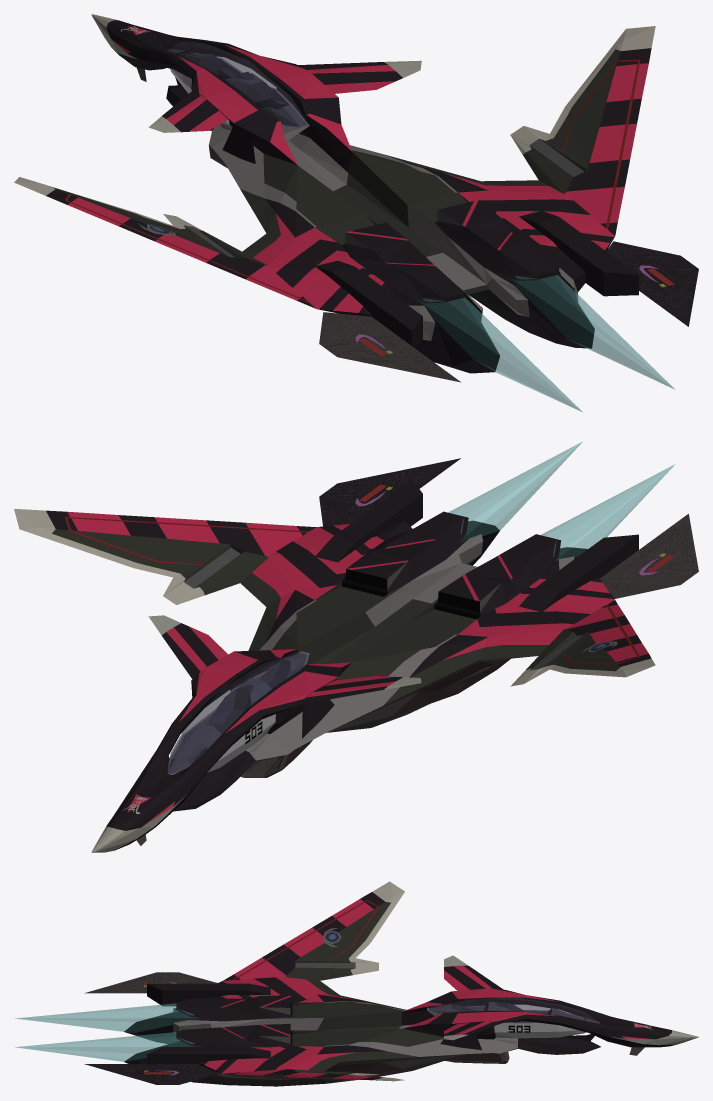
File: frx01Jam-F.obj
3 views of the same model, one above another, from view 1: azimuth 30°, elevation 25°; view 2: azimuth 150°, elevation 25°; view 3: azimuth 270°, elevation 25° (orthographic). The views are drawn at different scales.
Visible parts, largest first — view 1: ShapeIndexedFaceSet.052_ShapeIndexedFaceSet.053, ShapeIndexedFaceSet.061_ShapeIndexedFaceSet.062, ShapeIndexedFaceSet.063_ShapeIndexedFaceSet.064, ShapeIndexedFaceSet.022_ShapeIndexedFaceSet.023, ShapeIndexedFaceSet.054_ShapeIndexedFaceSet.055, ShapeIndexedFaceSet.053_ShapeIndexedFaceSet.054, ShapeIndexedFaceSet.046_ShapeIndexedFaceSet.047, ShapeIndexedFaceSet.013_ShapeIndexedFaceSet.014, ShapeIndexedFaceSet.048_ShapeIndexedFaceSet.049, ShapeIndexedFaceSet.069_ShapeIndexedFaceSet, ShapeIndexedFaceSet.017_ShapeIndexedFaceSet.018, ShapeIndexedFaceSet.043_ShapeIndexedFaceSet.044 (+17 smaller); view 2: ShapeIndexedFaceSet.052_ShapeIndexedFaceSet.053, ShapeIndexedFaceSet.061_ShapeIndexedFaceSet.062, ShapeIndexedFaceSet.063_ShapeIndexedFaceSet.064, ShapeIndexedFaceSet.054_ShapeIndexedFaceSet.055, ShapeIndexedFaceSet.022_ShapeIndexedFaceSet.023, ShapeIndexedFaceSet.046_ShapeIndexedFaceSet.047, ShapeIndexedFaceSet.069_ShapeIndexedFaceSet, ShapeIndexedFaceSet.013_ShapeIndexedFaceSet.014, ShapeIndexedFaceSet.017_ShapeIndexedFaceSet.018, ShapeIndexedFaceSet.048_ShapeIndexedFaceSet.049, ShapeIndexedFaceSet.045_ShapeIndexedFaceSet.046, ShapeIndexedFaceSet.053_ShapeIndexedFaceSet.054 (+20 smaller); view 3: ShapeIndexedFaceSet.052_ShapeIndexedFaceSet.053, ShapeIndexedFaceSet.061_ShapeIndexedFaceSet.062, ShapeIndexedFaceSet.022_ShapeIndexedFaceSet.023, ShapeIndexedFaceSet.063_ShapeIndexedFaceSet.064, ShapeIndexedFaceSet.054_ShapeIndexedFaceSet.055, ShapeIndexedFaceSet.034_ShapeIndexedFaceSet.035, ShapeIndexedFaceSet.069_ShapeIndexedFaceSet, ShapeIndexedFaceSet.037_ShapeIndexedFaceSet.038, ShapeIndexedFaceSet.017_ShapeIndexedFaceSet.018, ShapeIndexedFaceSet.065_ShapeIndexedFaceSet.066, ShapeIndexedFaceSet.055_ShapeIndexedFaceSet.056, ShapeIndexedFaceSet.030_ShapeIndexedFaceSet.031 (+15 smaller).
Part boxes in pixels (x1,y1,x2,y2): ShapeIndexedFaceSet.052_ShapeIndexedFaceSet.053: (106, 20, 638, 347); ShapeIndexedFaceSet.061_ShapeIndexedFaceSet.062: (240, 150, 548, 257); ShapeIndexedFaceSet.063_ShapeIndexedFaceSet.064: (112, 26, 614, 312); ShapeIndexedFaceSet.022_ShapeIndexedFaceSet.023: (416, 275, 674, 411); ShapeIndexedFaceSet.054_ShapeIndexedFaceSet.055: (209, 122, 577, 340); ShapeIndexedFaceSet.053_ShapeIndexedFaceSet.054: (414, 275, 594, 371); ShapeIndexedFaceSet.046_ShapeIndexedFaceSet.047: (523, 49, 620, 193); ShapeIndexedFaceSet.013_ShapeIndexedFaceSet.014: (319, 312, 460, 382); ShapeIndexedFaceSet.048_ShapeIndexedFaceSet.049: (565, 63, 648, 223); ShapeIndexedFaceSet.069_ShapeIndexedFaceSet: (168, 41, 309, 127); ShapeIndexedFaceSet.017_ShapeIndexedFaceSet.018: (606, 241, 698, 326); ShapeIndexedFaceSet.043_ShapeIndexedFaceSet.044: (566, 48, 651, 235); ShapeIndexedFaceSet.052_ShapeIndexedFaceSet.053: (106, 479, 638, 850); ShapeIndexedFaceSet.061_ShapeIndexedFaceSet.062: (240, 573, 548, 705); ShapeIndexedFaceSet.063_ShapeIndexedFaceSet.064: (127, 524, 614, 826); ShapeIndexedFaceSet.054_ShapeIndexedFaceSet.055: (246, 534, 574, 760); ShapeIndexedFaceSet.022_ShapeIndexedFaceSet.023: (448, 442, 674, 561); ShapeIndexedFaceSet.046_ShapeIndexedFaceSet.047: (52, 529, 268, 595); ShapeIndexedFaceSet.069_ShapeIndexedFaceSet: (168, 651, 309, 773); ShapeIndexedFaceSet.013_ShapeIndexedFaceSet.014: (600, 514, 698, 598); ShapeIndexedFaceSet.017_ShapeIndexedFaceSet.018: (319, 458, 460, 526); ShapeIndexedFaceSet.048_ShapeIndexedFaceSet.049: (67, 511, 302, 556); ShapeIndexedFaceSet.045_ShapeIndexedFaceSet.046: (14, 508, 204, 604); ShapeIndexedFaceSet.053_ShapeIndexedFaceSet.054: (277, 520, 587, 757); ShapeIndexedFaceSet.052_ShapeIndexedFaceSet.053: (147, 977, 677, 1073); ShapeIndexedFaceSet.061_ShapeIndexedFaceSet.062: (272, 979, 443, 1071); ShapeIndexedFaceSet.022_ShapeIndexedFaceSet.023: (14, 1003, 201, 1061); ShapeIndexedFaceSet.063_ShapeIndexedFaceSet.064: (204, 977, 652, 1073); ShapeIndexedFaceSet.054_ShapeIndexedFaceSet.055: (173, 1001, 517, 1056); ShapeIndexedFaceSet.034_ShapeIndexedFaceSet.035: (286, 902, 390, 980); ShapeIndexedFaceSet.069_ShapeIndexedFaceSet: (427, 997, 599, 1023); ShapeIndexedFaceSet.037_ShapeIndexedFaceSet.038: (234, 899, 373, 979); ShapeIndexedFaceSet.017_ShapeIndexedFaceSet.018: (84, 1064, 218, 1084); ShapeIndexedFaceSet.065_ShapeIndexedFaceSet.066: (214, 1048, 582, 1086); ShapeIndexedFaceSet.055_ShapeIndexedFaceSet.056: (193, 1002, 600, 1086); ShapeIndexedFaceSet.030_ShapeIndexedFaceSet.031: (223, 892, 384, 980).
Bounding box in the file's own units: 153 × 30.96 × 222.
